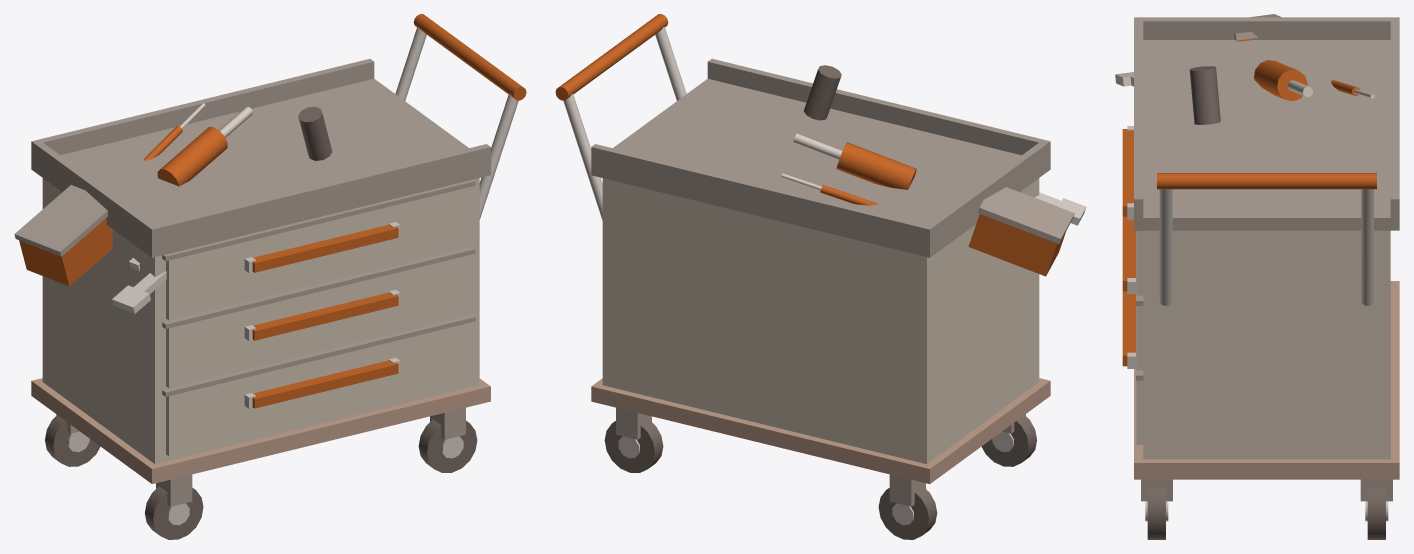
Rendered from D21_tool_cart.glb.
3 renders of one model, left to right at view 1: azimuth 30°, elevation 25°; view 2: azimuth 150°, elevation 25°; view 3: azimuth 270°, elevation 25°, orthographic. The views are drawn at different scales.
Visible parts, largest first — view 1: caster_wheel, caster_fork, chassis, caster_hub; view 2: caster_wheel, caster_fork, chassis, caster_hub; view 3: caster_wheel, caster_fork, chassis, caster_hub.
Part boxes in pixels (bbox=[...]): caster_wheel: bbox=[19, 14, 526, 539]; caster_fork: bbox=[14, 59, 490, 506]; chassis: bbox=[31, 378, 490, 483]; caster_hub: bbox=[68, 27, 518, 525]; caster_wheel: bbox=[555, 14, 1065, 539]; caster_fork: bbox=[591, 58, 1074, 506]; chassis: bbox=[591, 378, 1050, 483]; caster_hub: bbox=[563, 27, 1086, 525]; caster_wheel: bbox=[1122, 38, 1390, 539]; caster_fork: bbox=[1134, 14, 1399, 501]; chassis: bbox=[1134, 281, 1399, 479]; caster_hub: bbox=[1115, 72, 1388, 521].
Bounding box in the file's own units: 1.27 × 0.9856 × 0.6211.
